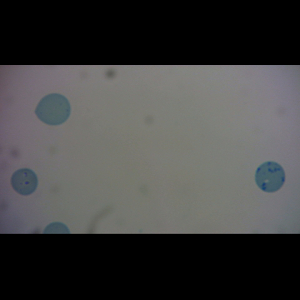aggregate reticulocyte: (254, 160, 286, 193)
erythrocyte: (10, 168, 38, 196)
punctate reticulocyte: (33, 92, 72, 127)
